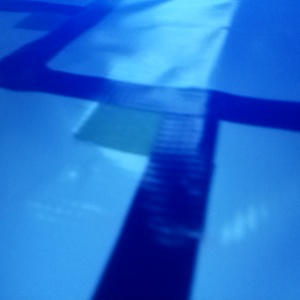bottom_left: (73, 89, 214, 157)
